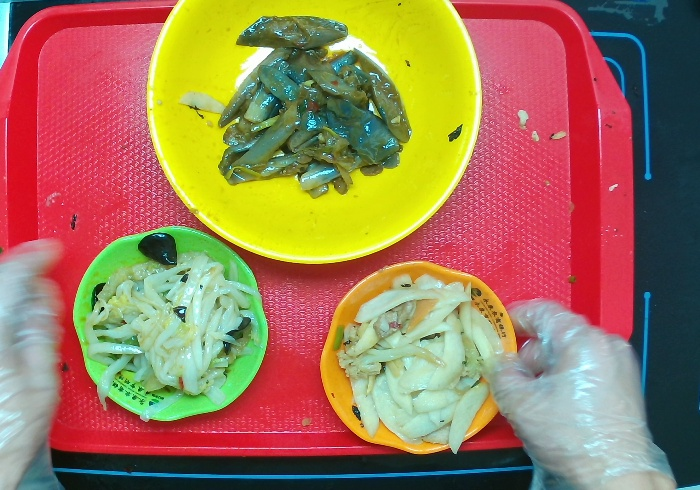YKMZ-Huang_Se_Tang_Wan: (131, 1, 490, 291)
YKMZ-Ju_Se_Ao_Bian_Wan: (315, 254, 530, 458)
YKMZ-Lv_Se_Ao_Bian_Wan: (67, 216, 275, 432)
